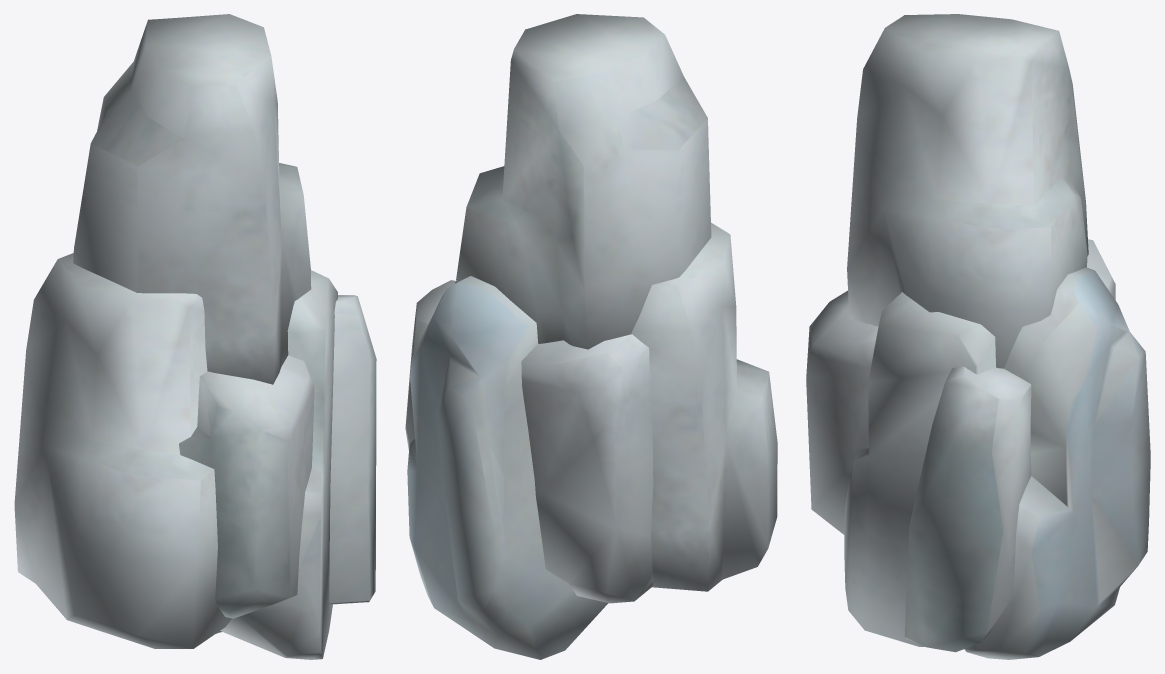
The model's file is P_RockSpire_RockClumpB08.obj.
3 views of the same model, side by side, from view 1: azimuth 30°, elevation 25°; view 2: azimuth 150°, elevation 25°; view 3: azimuth 270°, elevation 25° (orthographic). The views are drawn at different scales.
Bounding box in the file's own units: 11.74 × 20.24 × 10.9.
